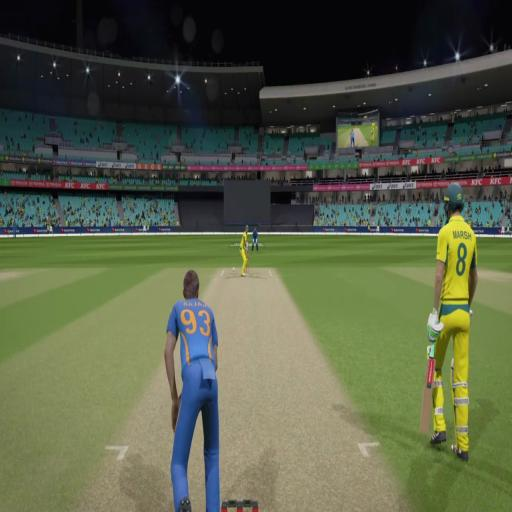ball: (232, 267, 234, 273)
